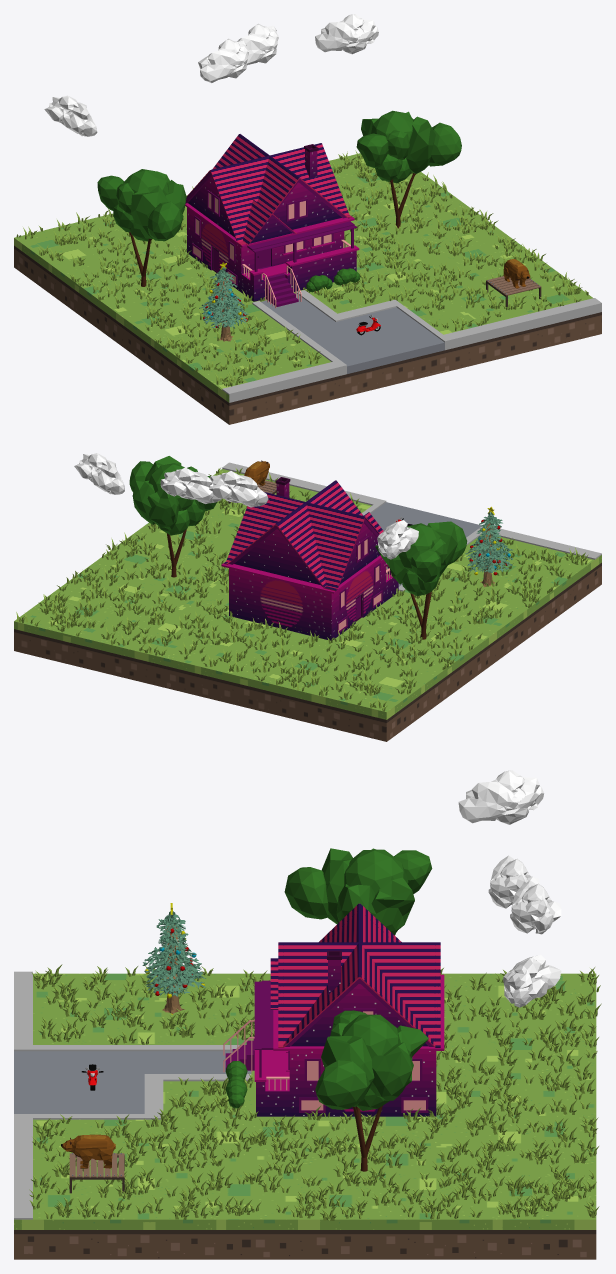
The picture shows the model from 3 angles, top to bottom: view 1: azimuth 30°, elevation 25°; view 2: azimuth 150°, elevation 25°; view 3: azimuth 270°, elevation 25°; orthographic projection. The views are drawn at different scales.
Visible parts, largest first — view 1: Cube.006, Cube.156, Circle.012_Grass_0.192, Cube.007, tree, tree.001, OBJRANDOM_CHRISTMAS_TREE, Cube.009, ANIMAL_OSO; view 2: Cube.006, Cube.156, Circle.012_Grass_0.192, Cube.007, tree.001, tree, OBJRANDOM_CHRISTMAS_TREE, ANIMAL_OSO; view 3: Cube.006, Circle.012_Grass_0.192, Cube.156, tree, Cube.007, tree.001, OBJRANDOM_CHRISTMAS_TREE, Cube.009, ANIMAL_OSO.
Part boxes in pixels (box(x1,y1,x2,y2)): Cube.006: box(14, 153, 601, 424); Cube.156: box(185, 134, 359, 308); Circle.012_Grass_0.192: box(16, 150, 588, 386); Cube.007: box(44, 14, 378, 136); tree: box(356, 110, 461, 228); tree.001: box(97, 169, 186, 286); OBJRANDOM_CHRISTMAS_TREE: box(199, 262, 249, 341); Cube.009: box(486, 276, 541, 306); ANIMAL_OSO: box(503, 259, 530, 288); Cube.006: box(14, 462, 601, 741); Cube.156: box(221, 477, 398, 640); Circle.012_Grass_0.192: box(16, 468, 588, 711); Cube.007: box(74, 453, 418, 559); tree.001: box(375, 521, 467, 639); tree: box(129, 456, 216, 577); OBJRANDOM_CHRISTMAS_TREE: box(465, 506, 512, 587); ANIMAL_OSO: box(244, 460, 269, 485); Cube.006: box(14, 971, 596, 1259); Circle.012_Grass_0.192: box(29, 964, 601, 1220); Cube.156: box(223, 903, 444, 1116); tree: box(315, 1010, 428, 1171); Cube.007: box(458, 770, 561, 1007); tree.001: box(284, 848, 432, 935); OBJRANDOM_CHRISTMAS_TREE: box(142, 903, 205, 1014); Cube.009: box(69, 1153, 124, 1193); ANIMAL_OSO: box(61, 1134, 115, 1168).
Bounding box in the file's own units: 4071 × 2176 × 4040.
Materials: 39 (5 with a texture image).
